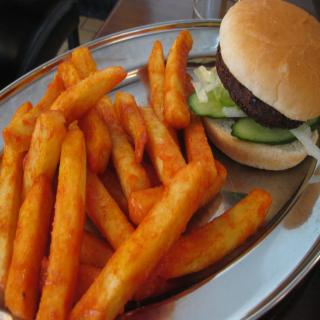French fries: (2, 50, 274, 318)
Hamburger: (188, 0, 320, 172)
